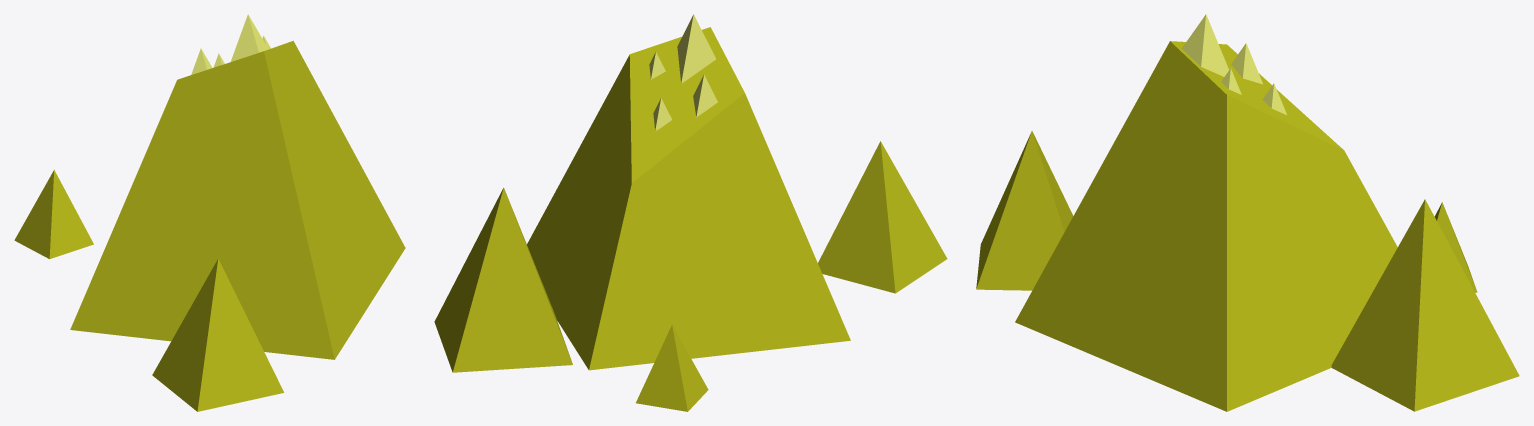
The model's file is piedras.glb.
The picture shows the model from 3 angles, left to right: view 1: azimuth 30°, elevation 25°; view 2: azimuth 150°, elevation 25°; view 3: azimuth 270°, elevation 25°; orthographic projection. The views are drawn at different scales.
Visible parts, largest first — view 1: Cone.006; view 2: Cone.006; view 3: Cone.006.
Part boxes in pixels (bbox=[...]): Cone.006: bbox=[14, 14, 405, 411]; Cone.006: bbox=[434, 14, 947, 411]; Cone.006: bbox=[976, 14, 1519, 411].
Bounding box in the file's own units: 2 × 1.63 × 2.56.
